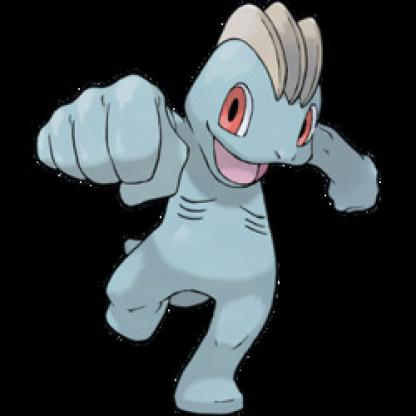Machop: (34, 1, 383, 416)
